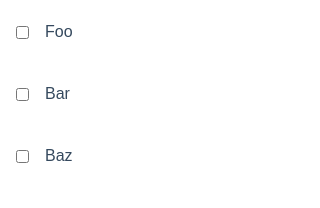
Validating field › should show a validation error
Click the checkbox labelled "Foo" at point(22, 32), box 16,26 -> 29,38
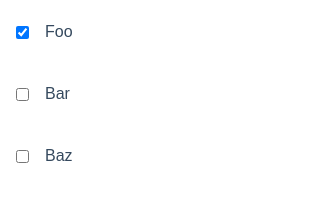
Now the checkbox labelled "Foo" is checked
Click the checkbox labelled "Foo" at point(22, 32), box 16,26 -> 29,38
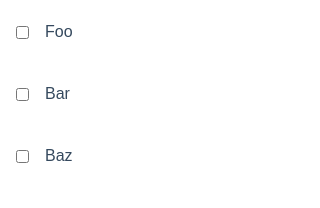
Now the checkbox labelled "Foo" is not checked, box 16,26 -> 29,38
Leave the element showing "Foo Bar Baz", box 16,23 -> 73,164
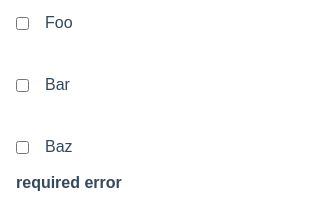
Now the text "required error" is shown, box 16,174 -> 122,191
